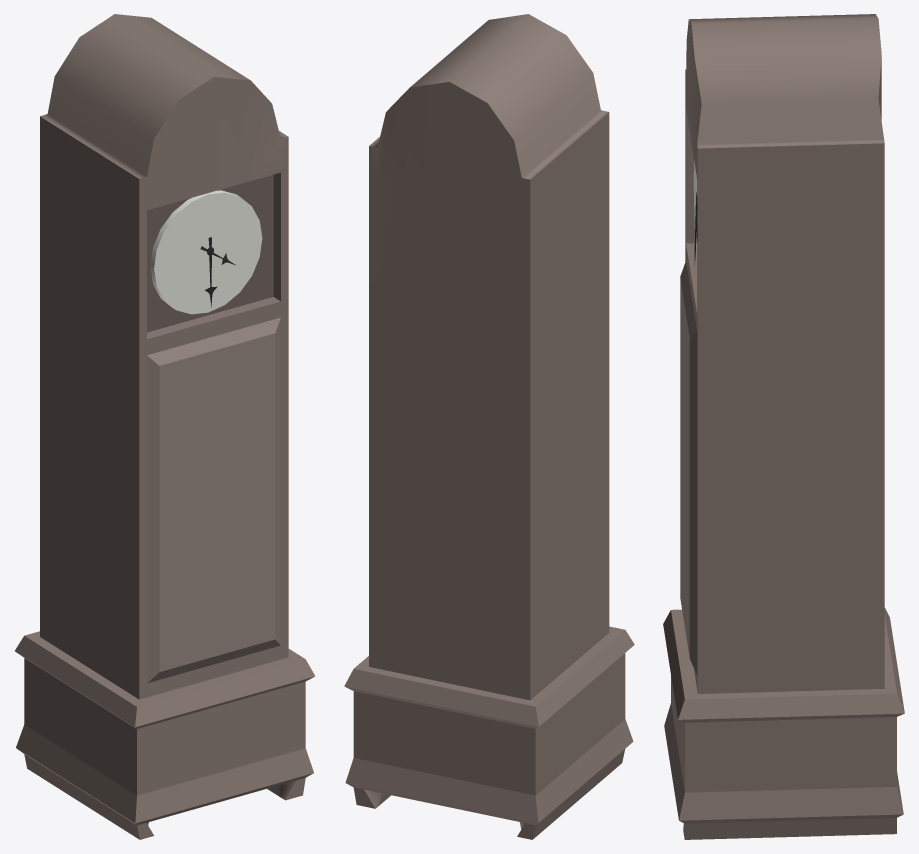
The model's file is Sem_Klok_Color.fbx.
3 views of the same model, side by side, from view 1: azimuth 30°, elevation 25°; view 2: azimuth 150°, elevation 25°; view 3: azimuth 270°, elevation 25° (orthographic). The views are drawn at different scales.
Parts seen in each view (by area): view 1: pCylinder9; view 2: pCylinder9; view 3: pCylinder9.
Boxes of the visible parts, x1,y1,x2,y2 form: pCylinder9: (15, 14, 315, 839); pCylinder9: (344, 14, 634, 839); pCylinder9: (663, 14, 904, 839).
Size of the model in its own units: 4.7 by 16.55 by 4.7.
